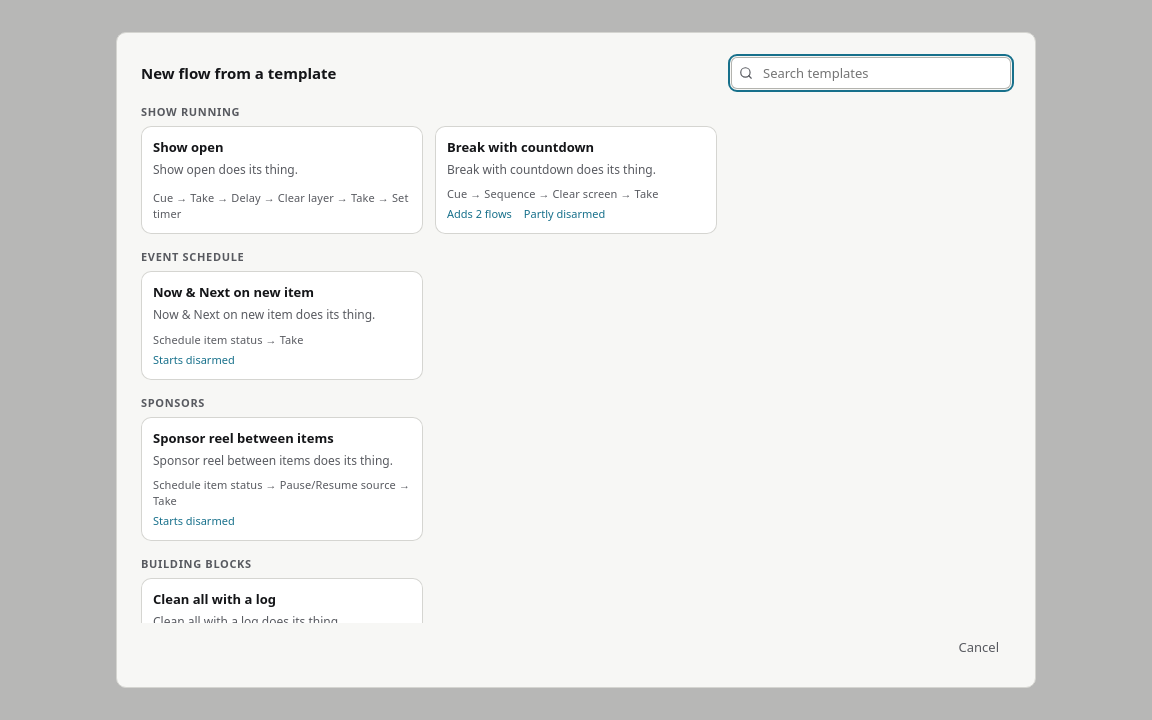
Scenario: gallery dialog › field and flow slots: values as screenId/layerId/key and the flow id; errors inline
Click the option that starts with "Sponsor reel between items" at point(282, 479), box [141,417,423,541]
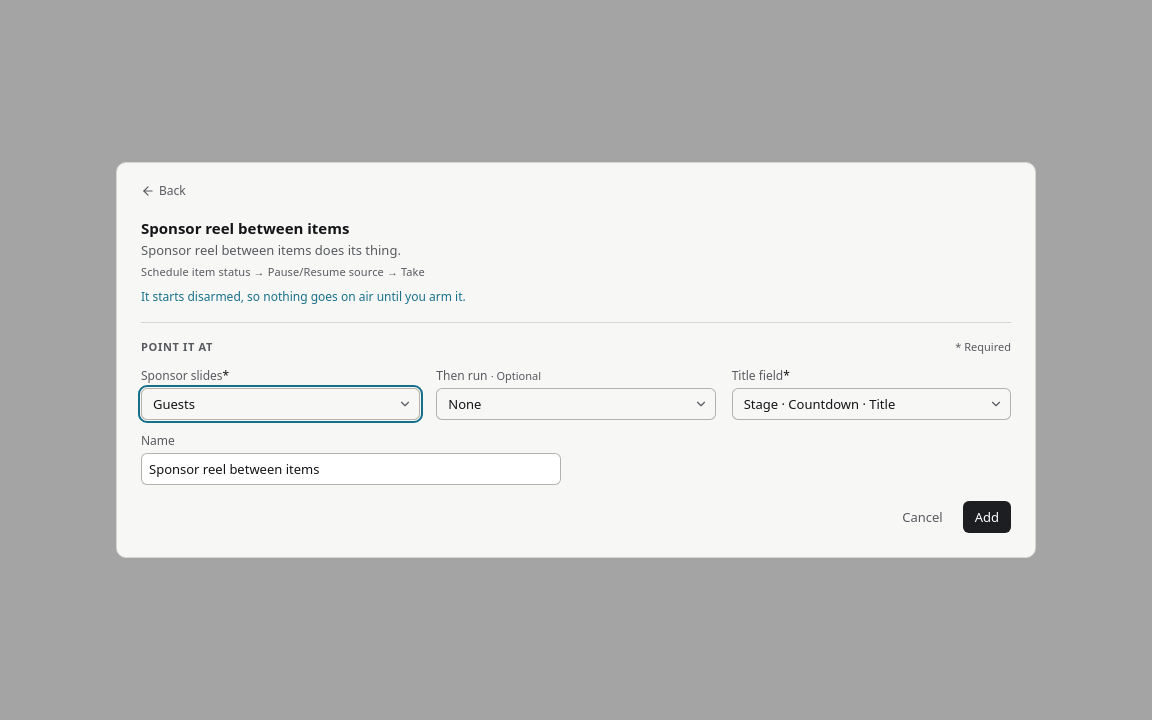
Select "Sponsors" in the dropdown labelled "Sponsor slides*" at point(281, 404), box [141,388,420,420]
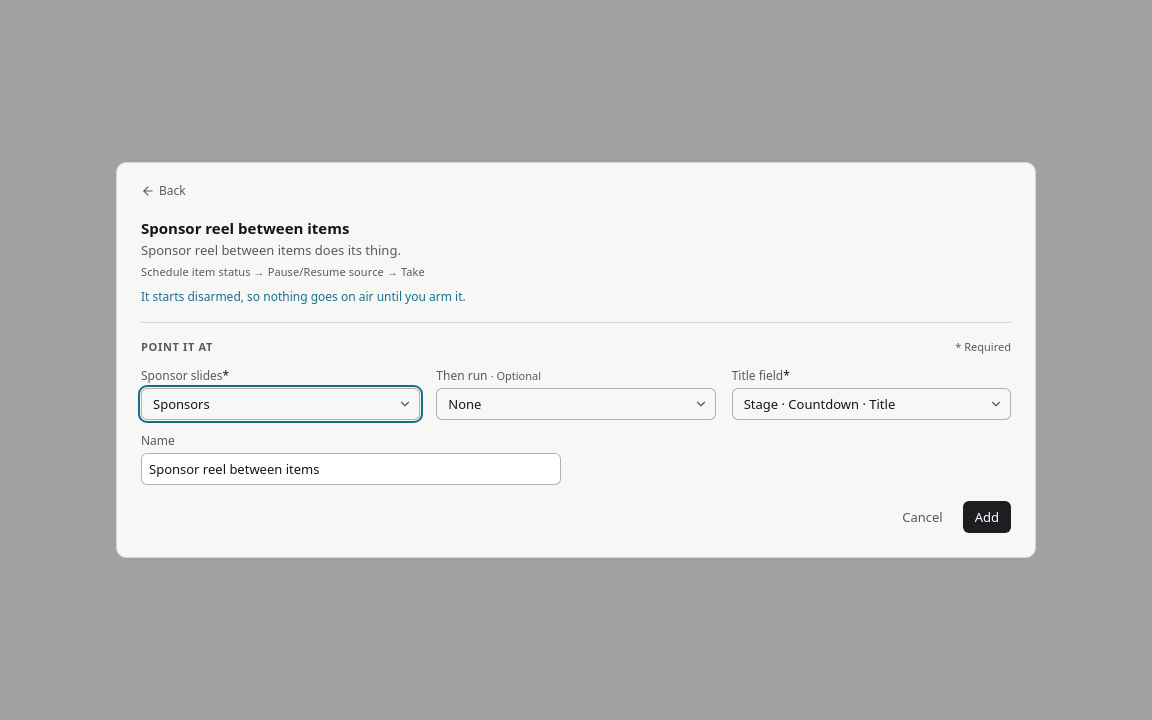
Select "Opener cue" in the dropdown labelled "Then run · Optional" at point(576, 404), box [436,388,716,420]
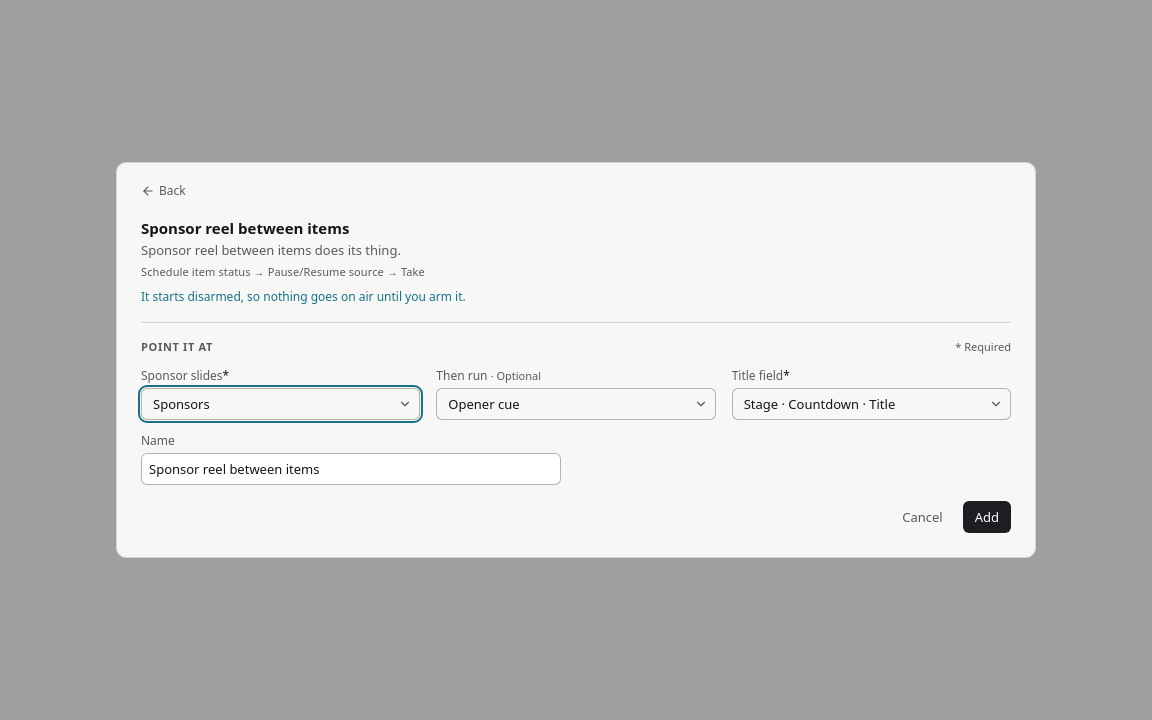
Select "Stage · Countdown · Title" in the dropdown labelled "Title field*" at point(871, 404), box [732,388,1011,420]
Click the button "Add" at point(987, 517), box [963,501,1011,533]
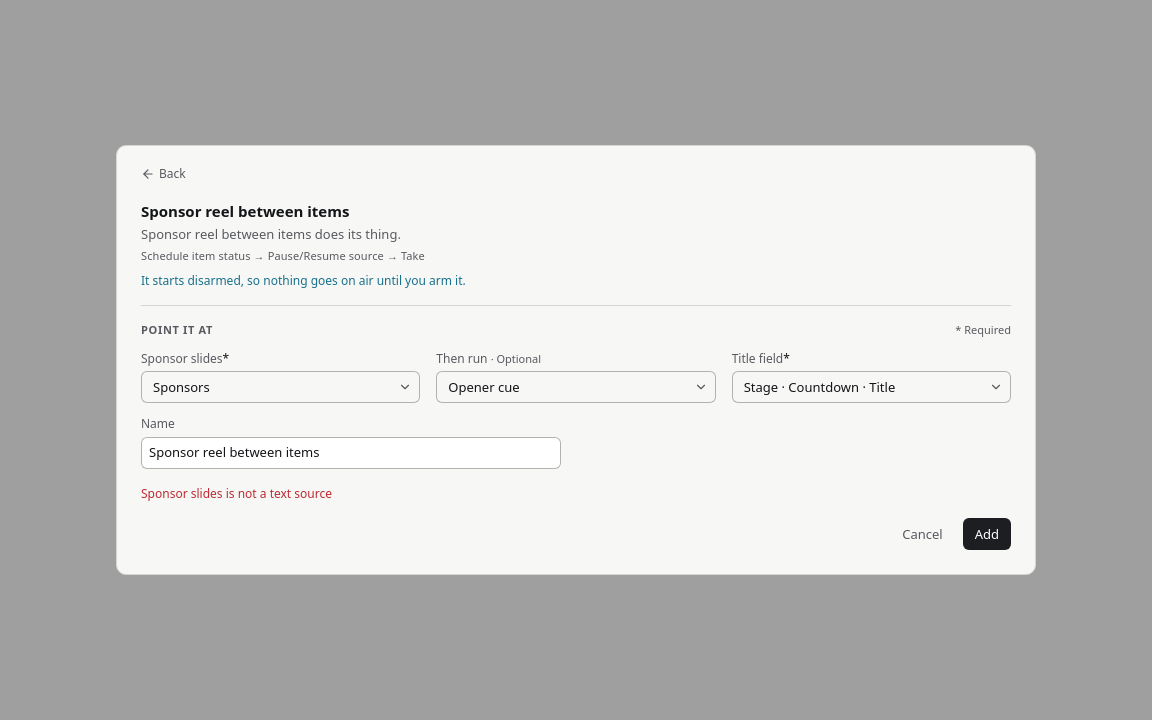
Expected: the message reads "Sponsor slides is not a text source", [141,485,332,502]
